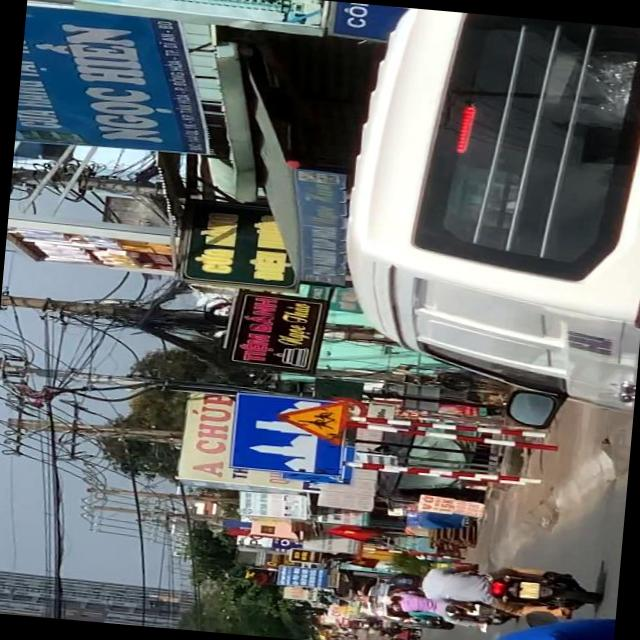W-225: (276, 397, 352, 443)
